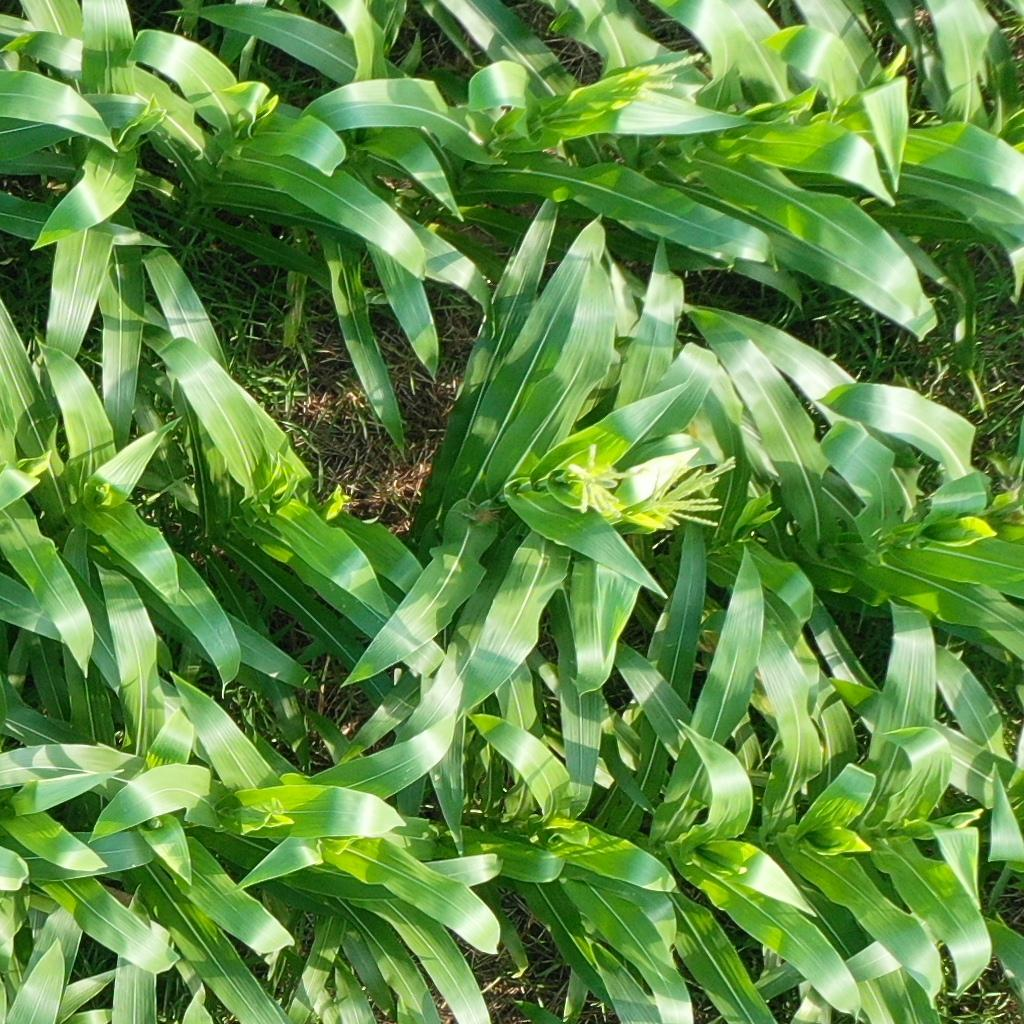Tassel: (641, 454, 740, 535), (560, 439, 646, 520), (600, 45, 708, 106), (252, 793, 286, 826), (146, 104, 170, 128)
